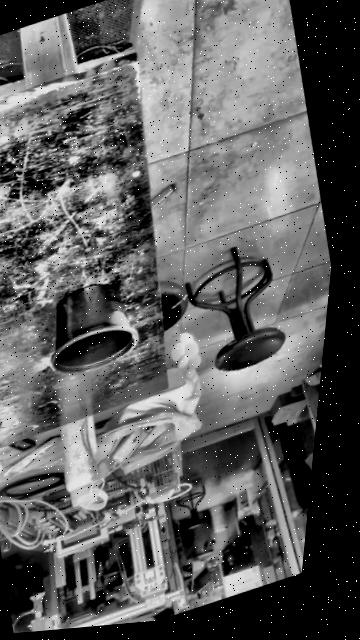pot: (32, 272, 147, 383)
